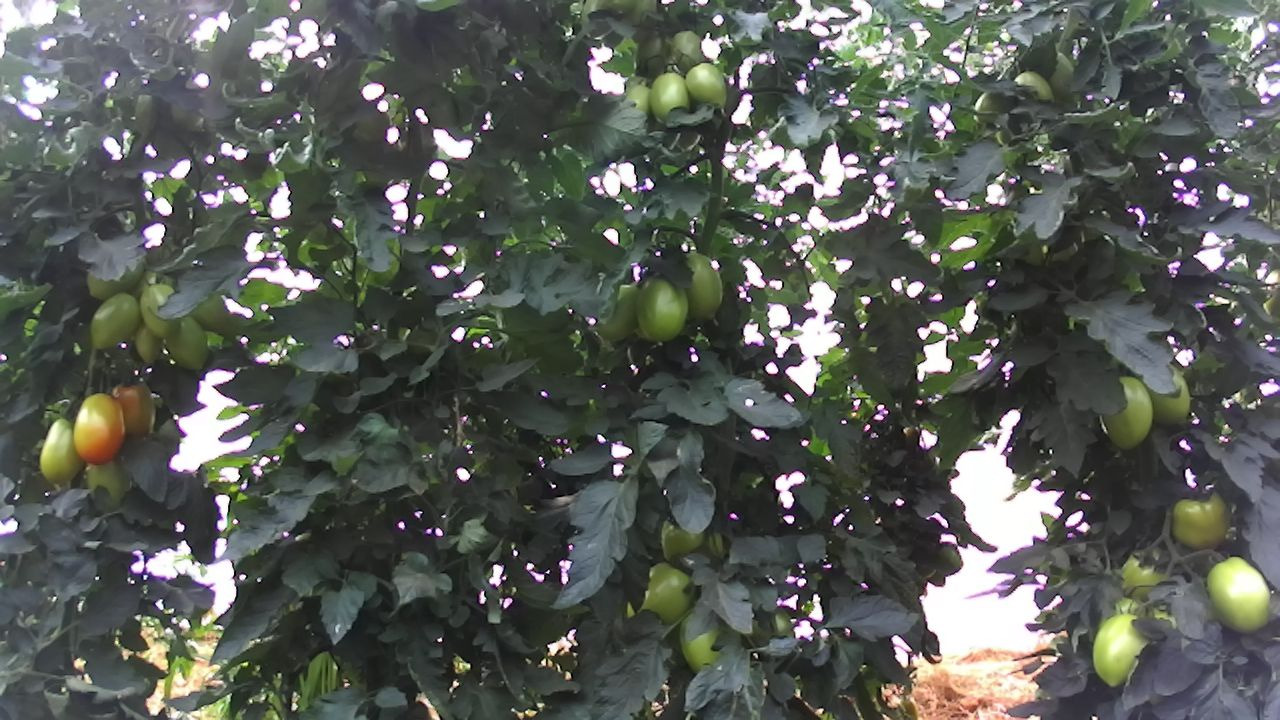tomato: (1203, 551, 1274, 640), (1082, 608, 1153, 688), (1166, 484, 1234, 556), (68, 389, 128, 468), (631, 270, 692, 346), (1103, 371, 1156, 454), (672, 246, 725, 328), (87, 291, 143, 355), (1143, 362, 1196, 429), (106, 374, 157, 443), (37, 417, 81, 489), (132, 280, 181, 342), (163, 312, 209, 374), (646, 69, 692, 126), (681, 59, 730, 111), (129, 322, 162, 365)
